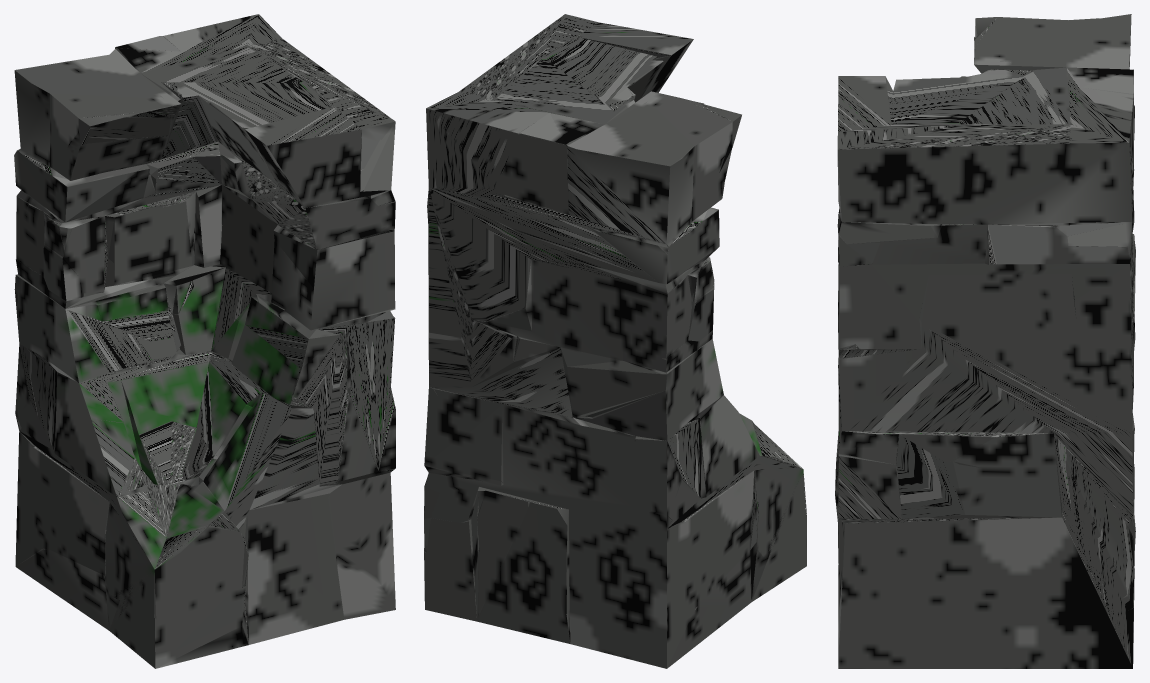
Rendered from corner_concave.fbx.
3 renders of one model, left to right at view 1: azimuth 30°, elevation 25°; view 2: azimuth 150°, elevation 25°; view 3: azimuth 270°, elevation 25°, orthographic. The views are drawn at different scales.
Visible parts, largest first — view 1: Sewer Corner Concave; view 2: Sewer Corner Concave; view 3: Sewer Corner Concave.
Boxes of the visible parts, x1,y1,x2,y2 form: Sewer Corner Concave: (14,14,395,668); Sewer Corner Concave: (424,14,806,668); Sewer Corner Concave: (835,14,1135,668).
Size of the model in its own units: 2534 by 4927 by 2535.
1 material, 1 textured.
